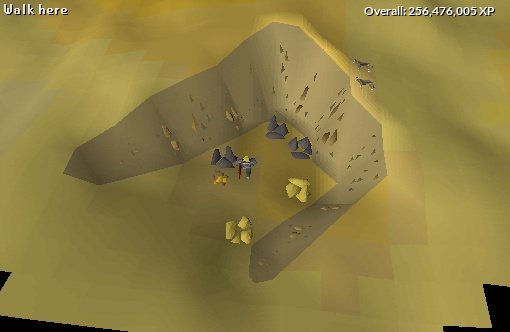depleted: (210, 144, 243, 172), (287, 136, 319, 161), (263, 116, 291, 142)
gold: (223, 214, 267, 250), (285, 173, 313, 206)
